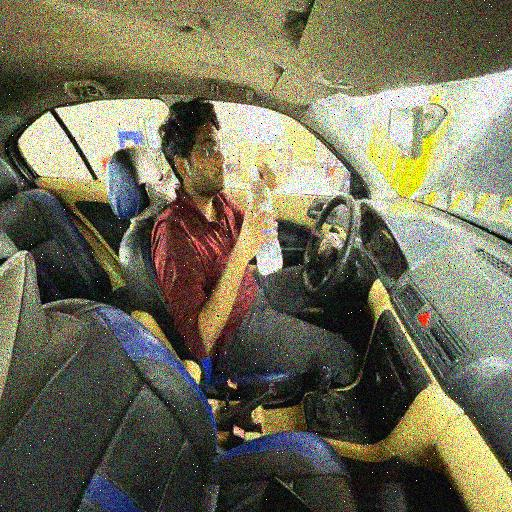Drinking: (148, 96, 285, 353)
